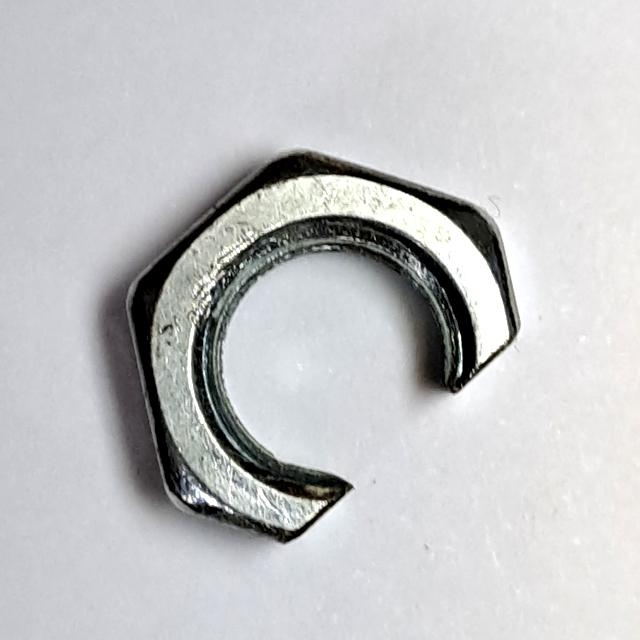Fracture: (115, 134, 527, 558)
